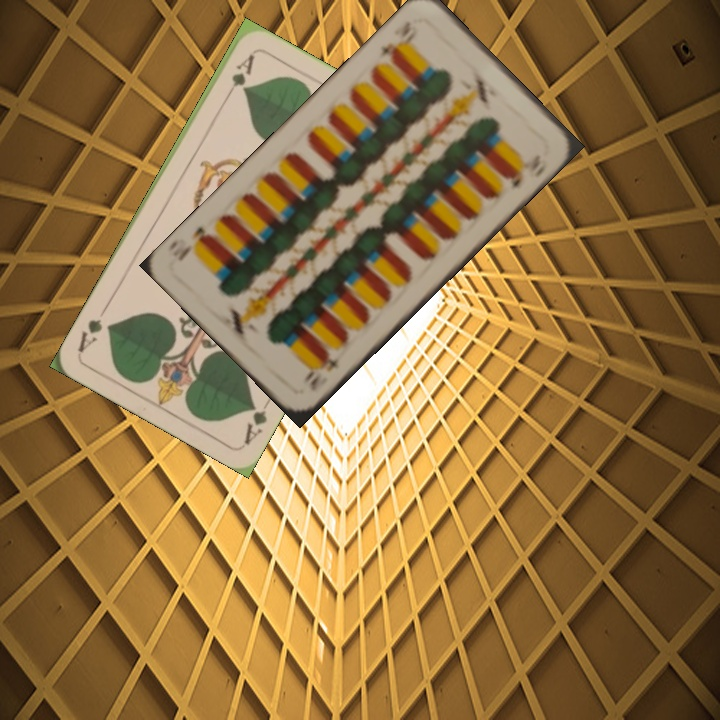E10: (298, 350, 342, 394), (376, 16, 414, 63)
GA: (220, 50, 258, 103), (240, 394, 275, 448)
